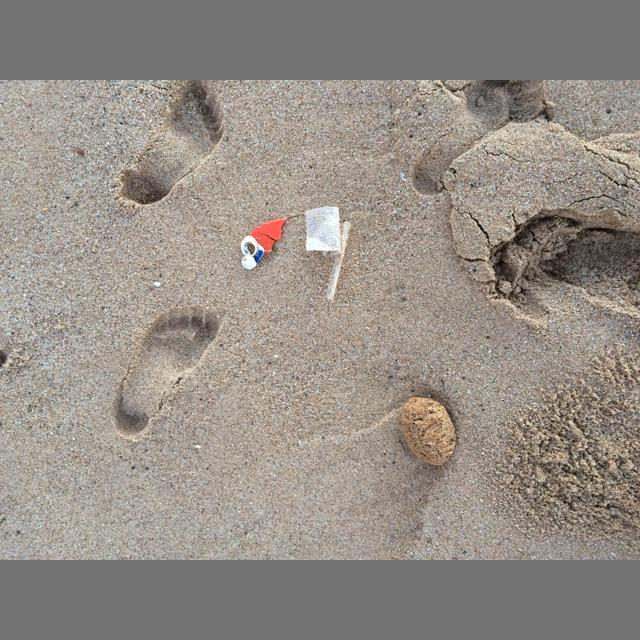litter: (327, 221, 351, 300), (305, 206, 341, 251), (251, 218, 286, 254), (241, 236, 264, 269)
